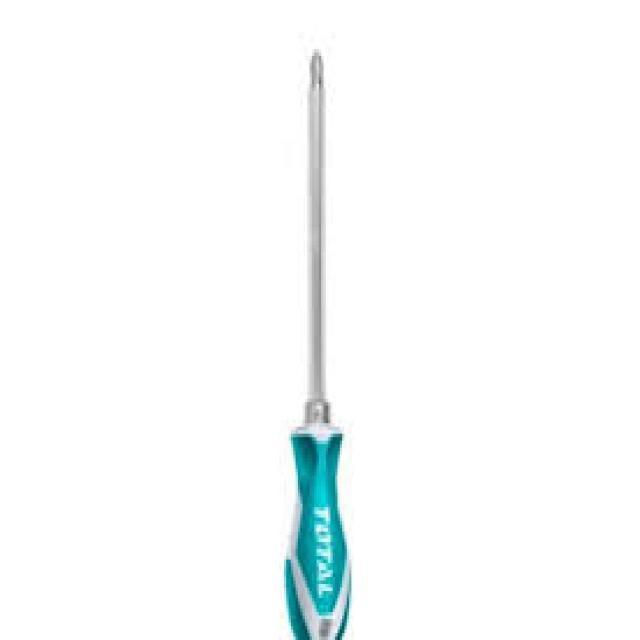screwdriver: (280, 35, 358, 640)
